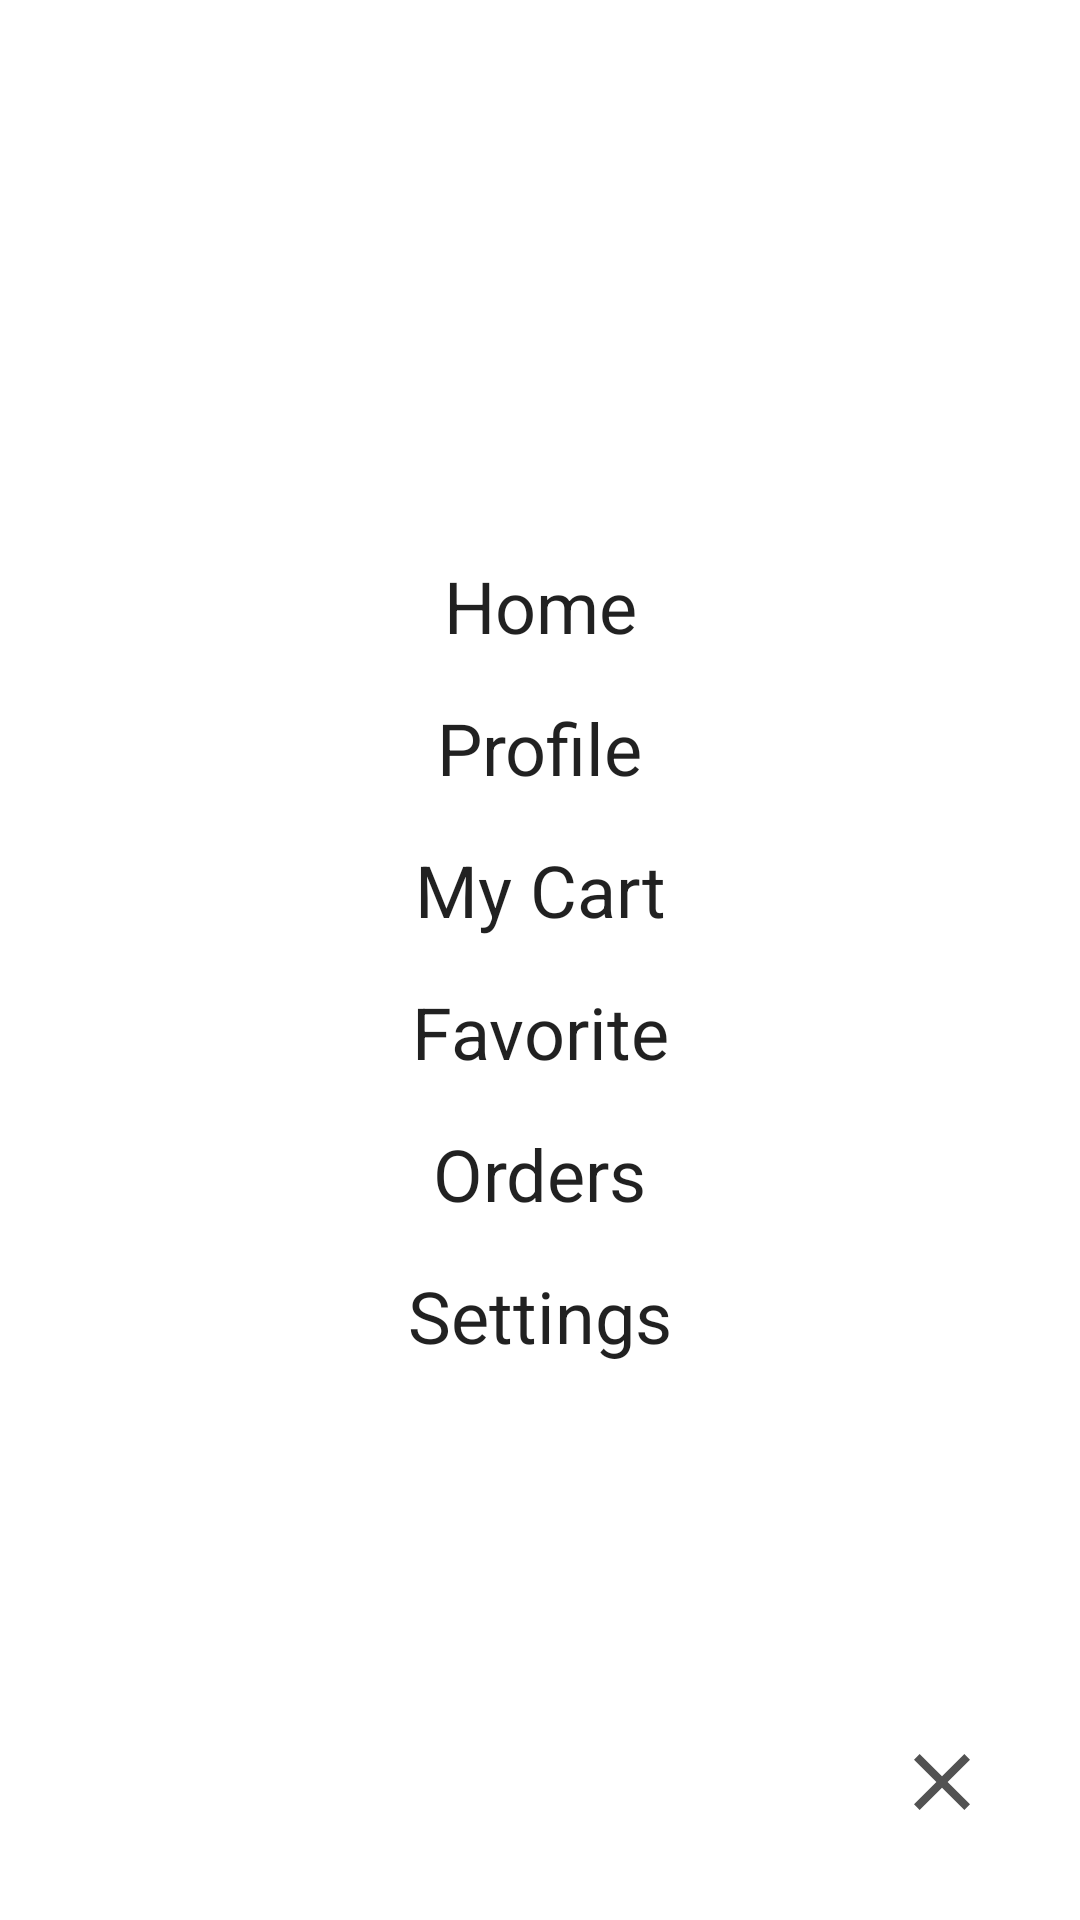

Icons on this 1080px x 1920px Android screen, each with the point to tap as (x,y):
close: (942,1782)
